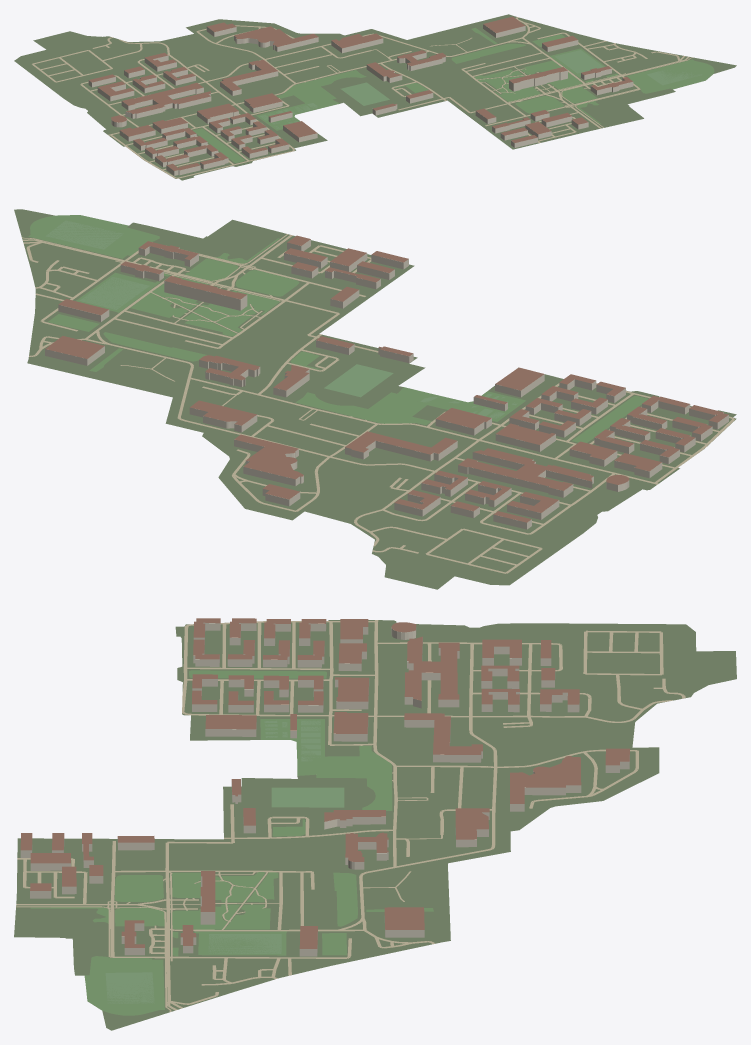
3 renders of one model, top to bottom at view 1: azimuth 30°, elevation 25°; view 2: azimuth 150°, elevation 25°; view 3: azimuth 270°, elevation 25°, orthographic. The views are drawn at different scales.
Parts seen in each view (by area): view 1: campus-ground, environment (×3), buildings, roofs; view 2: campus-ground, environment (×3), buildings, roofs; view 3: campus-ground, environment (×3), roofs, buildings.
Part boxes in pixels (box(x1,y1,x2,y2)): campus-ground: box(14, 14, 736, 180); environment (×3): box(32, 17, 714, 178); buildings: box(88, 24, 633, 175); roofs: box(89, 16, 632, 170); campus-ground: box(14, 209, 736, 589); environment (×3): box(22, 215, 734, 573); buildings: box(45, 239, 728, 529); roofs: box(45, 235, 728, 522); campus-ground: box(14, 620, 736, 1030); environment (×3): box(16, 620, 685, 1015); roofs: box(20, 618, 629, 948); buildings: box(20, 622, 629, 956).
Bounding box in the file's own units: 1394 × 20.05 × 1036.
